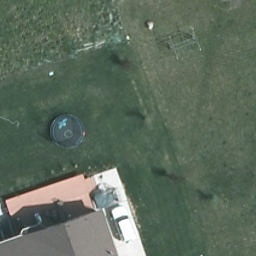car: (104, 206, 137, 243)
